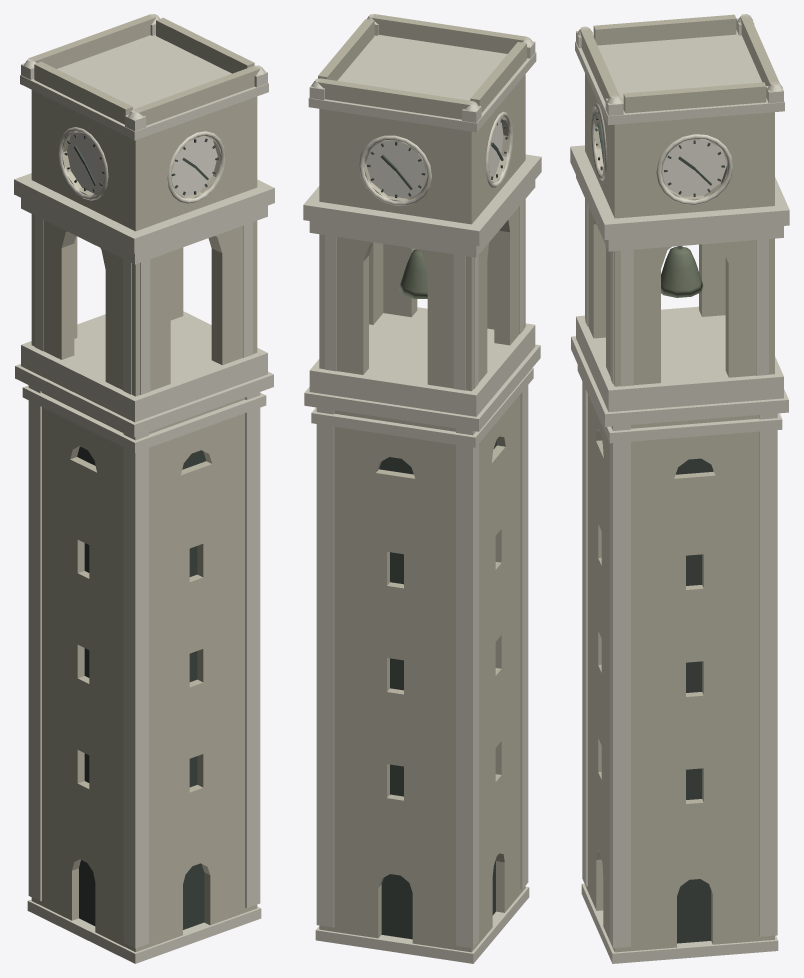
Rendered from coimbra-university-tower-far.glb.
3 renders of one model, left to right at view 1: azimuth 30°, elevation 25°; view 2: azimuth 150°, elevation 25°; view 3: azimuth 270°, elevation 25°, orthographic.
Parts seen in each view (by area): view 1: coimbra-university-tower-0-stone, coimbra-university-tower-0-trim, coimbra-university-tower-0-shadow, coimbra-university-tower-0-clock; view 2: coimbra-university-tower-0-stone, coimbra-university-tower-0-trim, coimbra-university-tower-0-shadow, coimbra-university-tower-0-clock, coimbra-university-tower-0-bell; view 3: coimbra-university-tower-0-stone, coimbra-university-tower-0-trim, coimbra-university-tower-0-shadow, coimbra-university-tower-0-clock, coimbra-university-tower-0-bell.
Part boxes in pixels (x1,y1,x2,y2): coimbra-university-tower-0-stone: [29, 14, 260, 952]; coimbra-university-tower-0-trim: [14, 14, 274, 963]; coimbra-university-tower-0-shadow: [77, 446, 205, 929]; coimbra-university-tower-0-clock: [67, 132, 217, 196]; coimbra-university-tower-0-stone: [317, 14, 526, 952]; coimbra-university-tower-0-trim: [303, 14, 541, 963]; coimbra-university-tower-0-shadow: [379, 441, 496, 939]; coimbra-university-tower-0-clock: [365, 119, 503, 198]; coimbra-university-tower-0-bell: [399, 249, 427, 298]; coimbra-university-tower-0-stone: [580, 14, 779, 952]; coimbra-university-tower-0-trim: [570, 14, 789, 963]; coimbra-university-tower-0-shadow: [675, 458, 713, 943]; coimbra-university-tower-0-clock: [600, 122, 726, 196]; coimbra-university-tower-0-bell: [661, 246, 703, 297].
Bounding box in the file's own units: 7.81 × 34 × 7.81.
